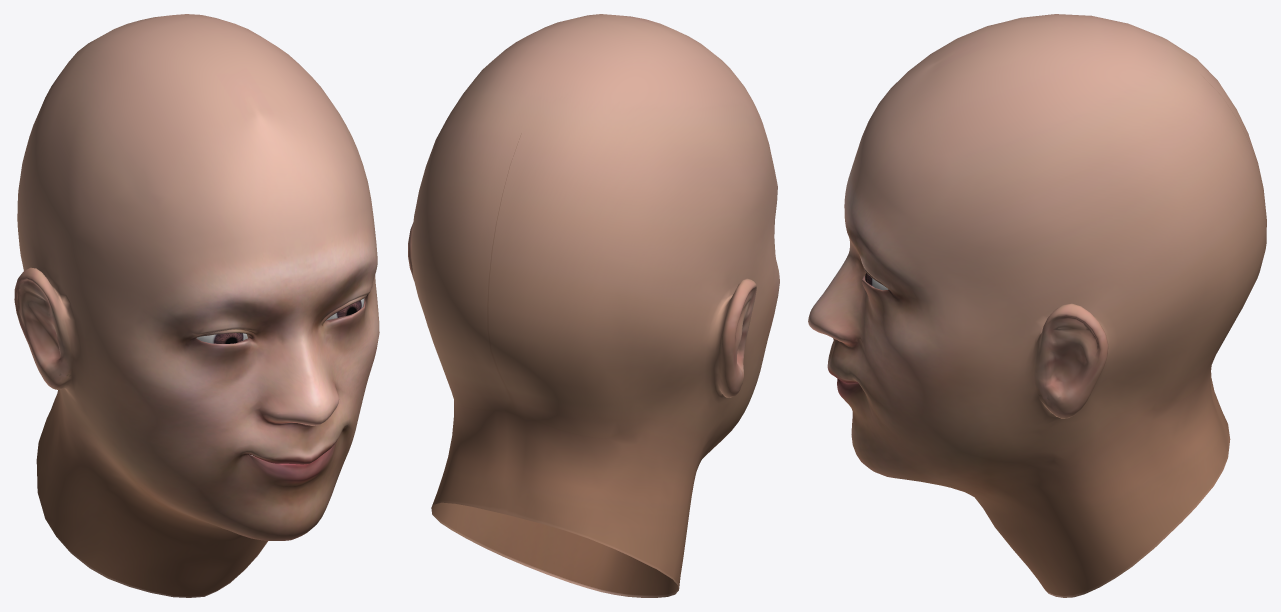
Rendered from happy.glb.
The picture shows the model from 3 angles, left to right: view 1: azimuth 30°, elevation 25°; view 2: azimuth 150°, elevation 25°; view 3: azimuth 270°, elevation 25°; orthographic projection.
Visible parts, largest first — view 1: Mesh_0, Mesh_1; view 2: Mesh_0; view 3: Mesh_0.
Part boxes in pixels (x1,y1,x2,y2): Mesh_0: (14, 14, 379, 597); Mesh_1: (197, 298, 364, 343); Mesh_0: (408, 14, 779, 597); Mesh_0: (808, 14, 1266, 597).
Bounding box in the file's own units: 365 × 595 × 445.
3 materials, 2 textured.
